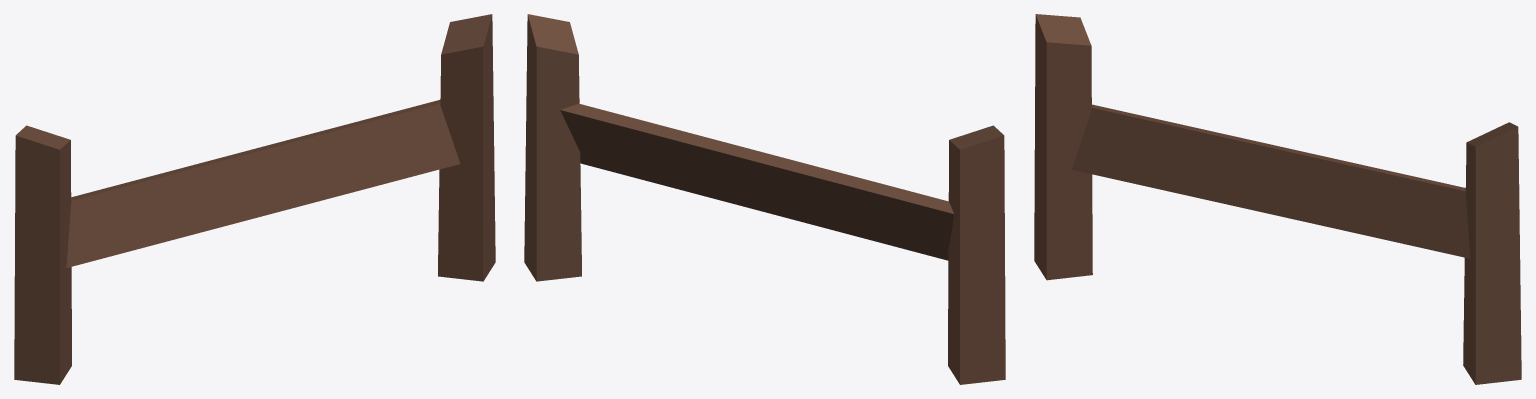
Rendered from wood wall.fbx.
3 renders of one model, left to right at view 1: azimuth 30°, elevation 25°; view 2: azimuth 150°, elevation 25°; view 3: azimuth 330°, elevation 25°, orthographic.
Parts seen in each view (by area): view 1: Circle; view 2: Circle; view 3: Circle.
Part boxes in pixels (x1=…): Circle: x1=14, y1=14, x2=495, y2=384; Circle: x1=524, y1=14, x2=1005, y2=384; Circle: x1=1034, y1=14, x2=1521, y2=384.
Bounding box in the file's own units: 227 × 112 × 27.33.
